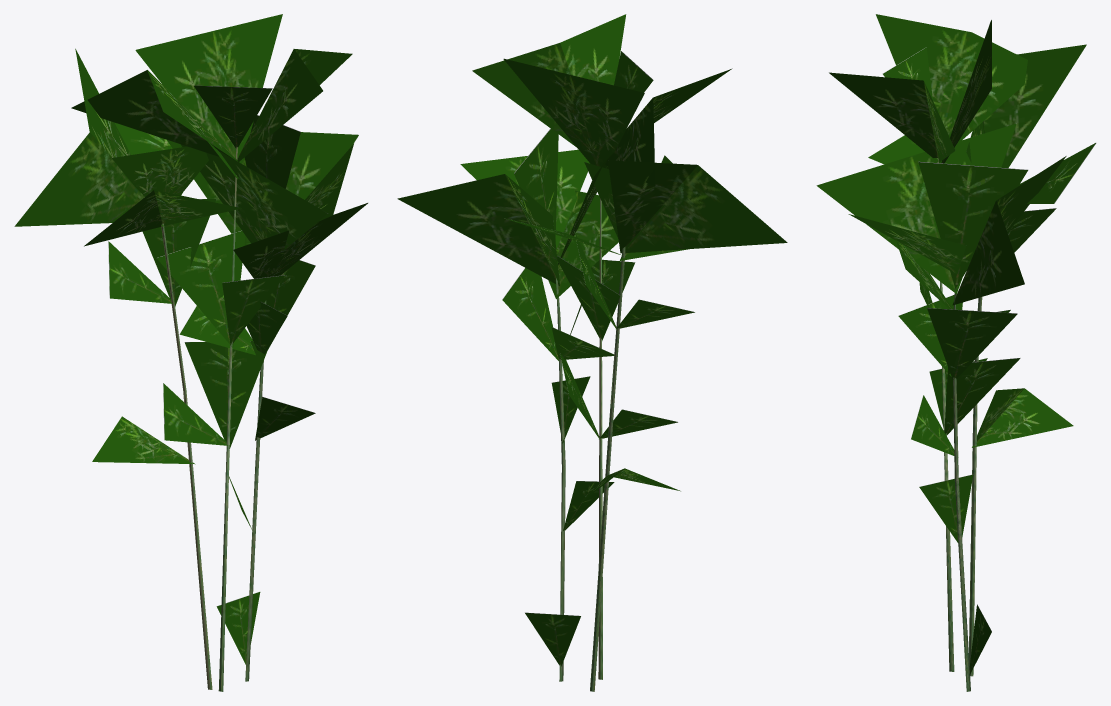
The model's file is leaf_bamboo_tri_l1.fbx.
The picture shows the model from 3 angles, left to right: view 1: azimuth 30°, elevation 25°; view 2: azimuth 150°, elevation 25°; view 3: azimuth 270°, elevation 25°; orthographic projection. The views are drawn at different scales.
Parts seen in each view (by area): view 1: mesh_node; view 2: mesh_node; view 3: mesh_node.
Part boxes in pixels (left/top/right/bottom): mesh_node: left=14, top=14, right=367, bottom=691; mesh_node: left=397, top=14, right=787, bottom=691; mesh_node: left=816, top=14, right=1096, bottom=691.
Bounding box in the file's own units: 6.97 × 11.46 × 4.65.
2 materials, 2 textured.
